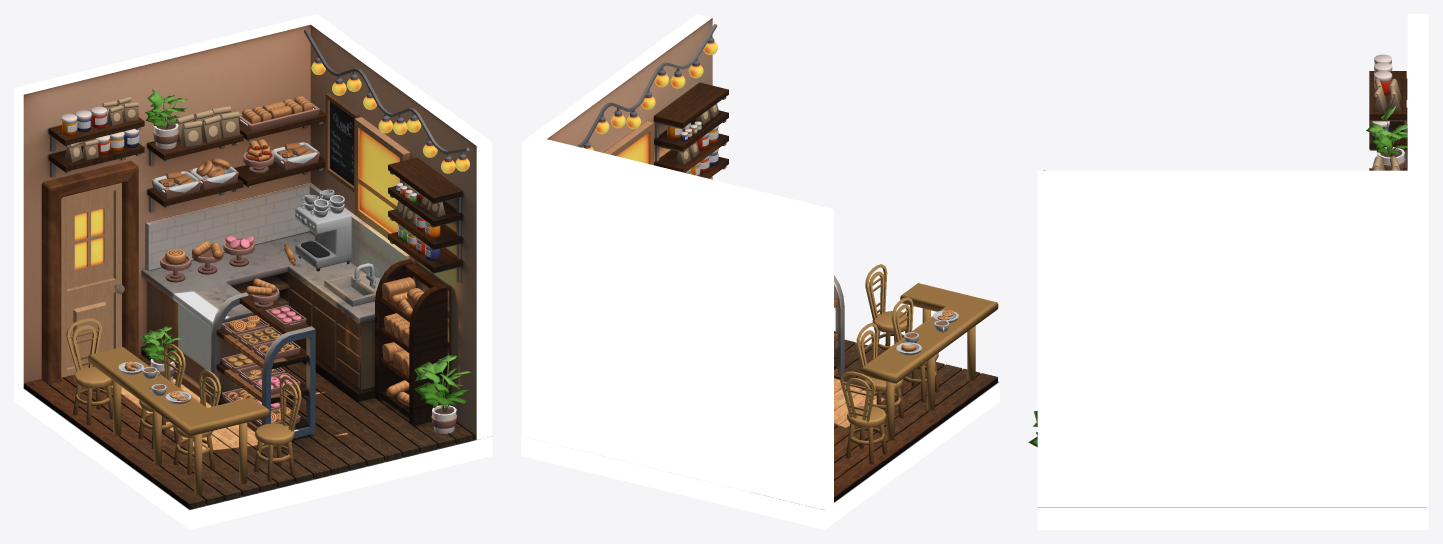
File: free_isometric_cafe.glb
The picture shows the model from 3 angles, left to right: view 1: azimuth 30°, elevation 25°; view 2: azimuth 150°, elevation 25°; view 3: azimuth 270°, elevation 25°; orthographic projection. The views are drawn at different scales.
Parts seen in each view (by area): view 1: Isometric_cafe_202, Cube.003_9, Cube.002_10, Cube.062_42, Cube_8, Cylinder.067_31, Cylinder.070_34, Cylinder.020_68, Cylinder.066_30, Cylinder.018_67, Cylinder.069_33, Cylinder.068_32 (+3 smaller); view 2: Isometric_cafe_202, Cube.062_42, Cylinder.067_31, Cylinder.066_30, Cylinder.070_34, Cylinder.068_32, Cylinder.069_33, Plane.016_194; view 3: Isometric_cafe_202, Cylinder.018_67.
Boxes of the visible parts, <box> form: Isometric_cafe_202: <box>14,14,492,529</box>; Cube.003_9: <box>61,182,124,377</box>; Cube.002_10: <box>41,160,138,384</box>; Cube.062_42: <box>88,347,269,436</box>; Cube_8: <box>295,206,351,271</box>; Cylinder.067_31: <box>66,318,112,424</box>; Cylinder.070_34: <box>254,376,301,481</box>; Cylinder.020_68: <box>414,355,471,433</box>; Cylinder.066_30: <box>113,380,247,495</box>; Cylinder.018_67: <box>145,89,187,149</box>; Cylinder.069_33: <box>173,369,221,474</box>; Cylinder.068_32: <box>138,343,185,448</box>; Isometric_cafe_202: <box>521,14,999,529</box>; Cube.062_42: <box>861,283,998,383</box>; Cylinder.067_31: <box>840,371,887,464</box>; Cylinder.066_30: <box>886,308,975,440</box>; Cylinder.070_34: <box>865,264,906,353</box>; Cylinder.068_32: <box>856,323,904,426</box>; Cylinder.069_33: <box>891,297,939,402</box>; Plane.016_194: <box>576,24,717,147</box>; Isometric_cafe_202: <box>1037,14,1428,529</box>; Cylinder.018_67: <box>1366,105,1407,170</box>.
Bounding box in the file's own units: 2 × 1.98 × 2.05.
Materials: 8 (6 with a texture image).
